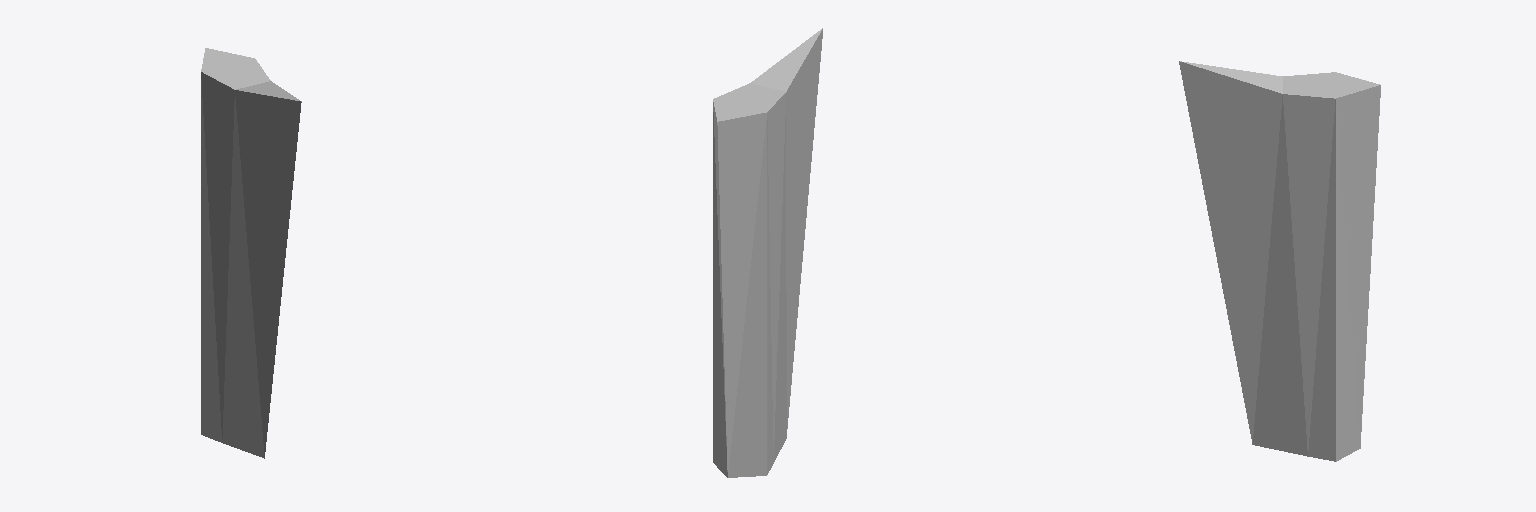
The model's file is boat2_3dex_ruder.obj.
The picture shows the model from 3 angles: view 1: azimuth 30°, elevation 25°; view 2: azimuth 150°, elevation 25°; view 3: azimuth 270°, elevation 25°; orthographic projection.
Parts seen in each view (by area): view 1: ruder_Cylinder.000; view 2: ruder_Cylinder.000; view 3: ruder_Cylinder.000.
Boxes of the visible parts, <box> form: ruder_Cylinder.000: <box>201,48,301,458</box>; ruder_Cylinder.000: <box>713,28,822,477</box>; ruder_Cylinder.000: <box>1179,61,1380,461</box>.
Bounding box in the file's own units: 0.2837 × 1.92 × 0.9156.